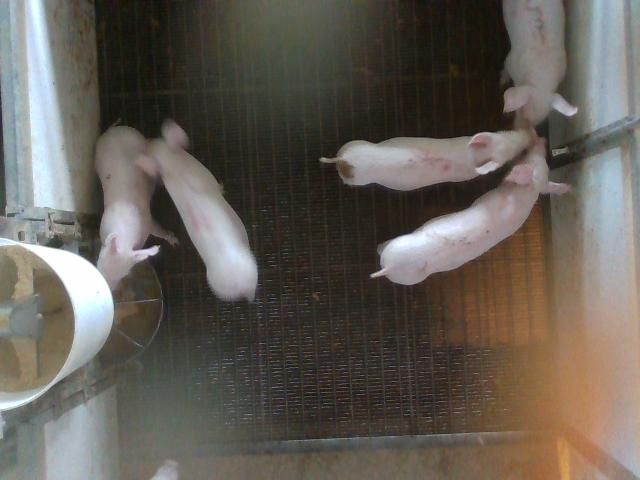pig-3: (502, 0, 578, 128)
pig-4: (136, 119, 258, 301)
pig-5: (320, 129, 532, 191)
